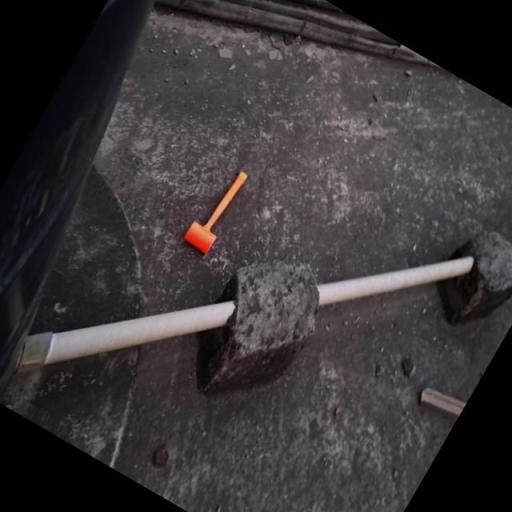mallet: (182, 163, 252, 255)
